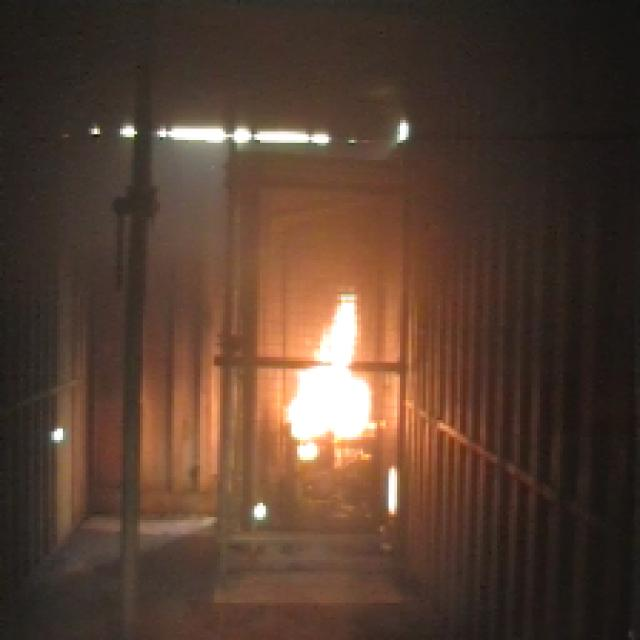fire: (291, 289, 376, 452)
